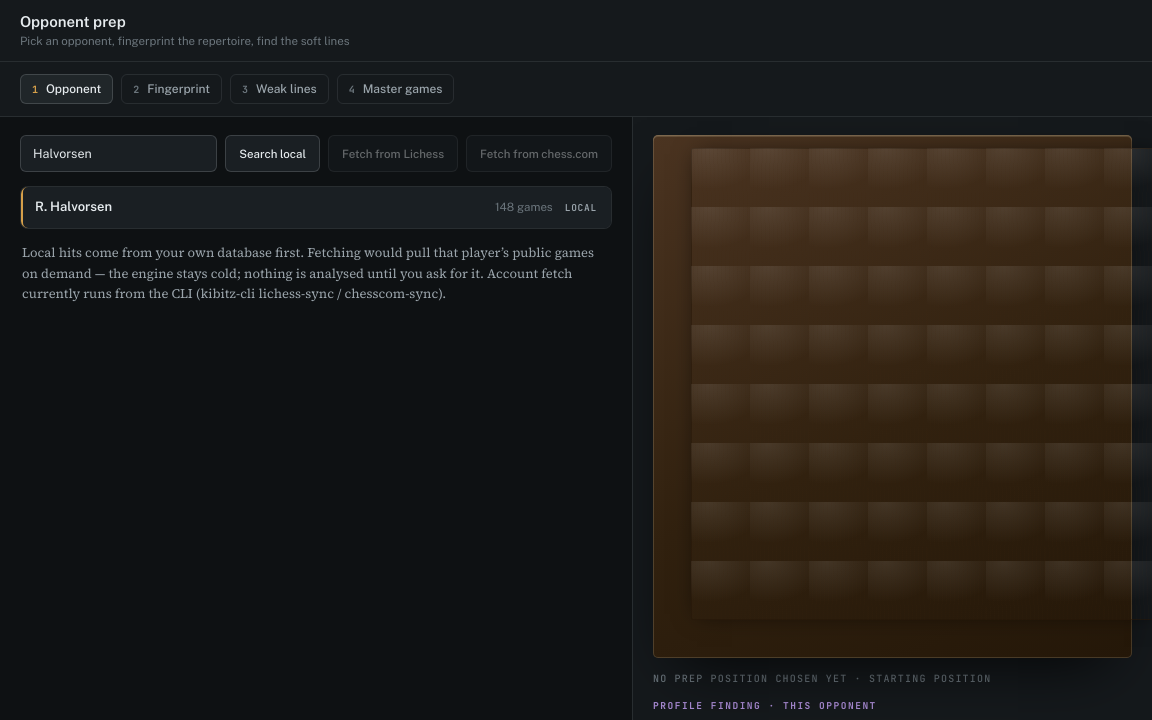
Prep — honest surfaces › aside finding is honestly absent without the opponent's profile
The image size is (1152, 720).
Click the text "R. Halvorsen" at (74, 206), box [35,199,112,214]
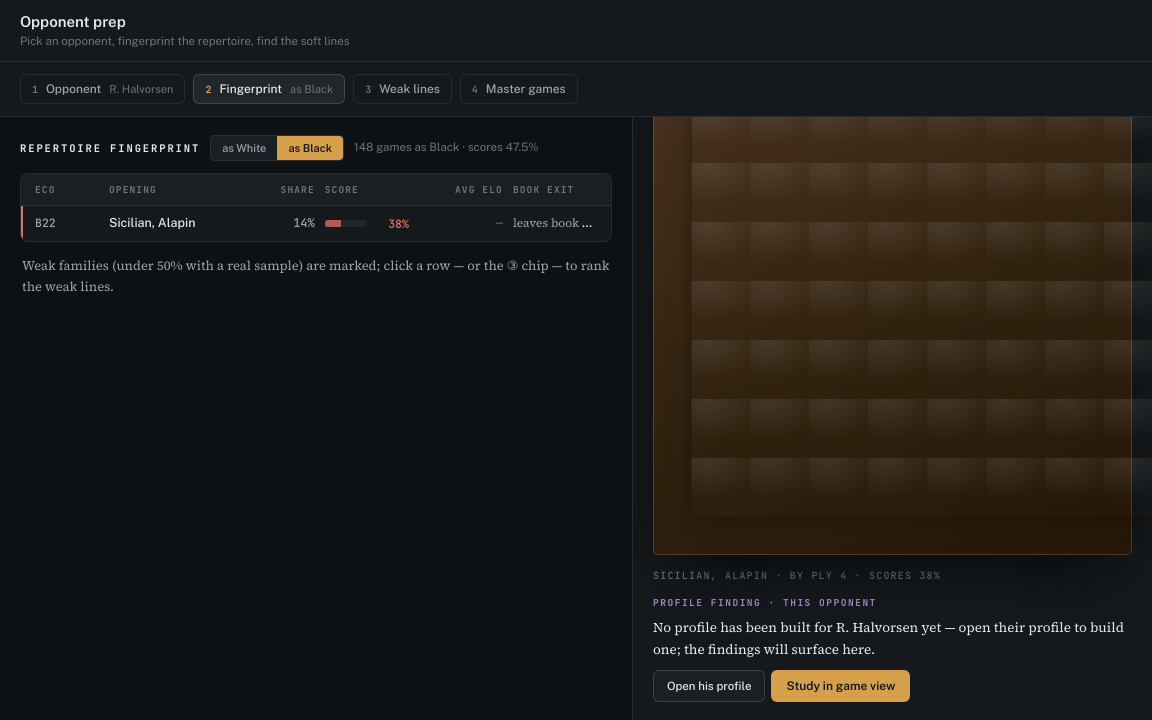
Expected: the text "No profile has been built for R. Halvorsen" is shown, [653,618,1124,659]
